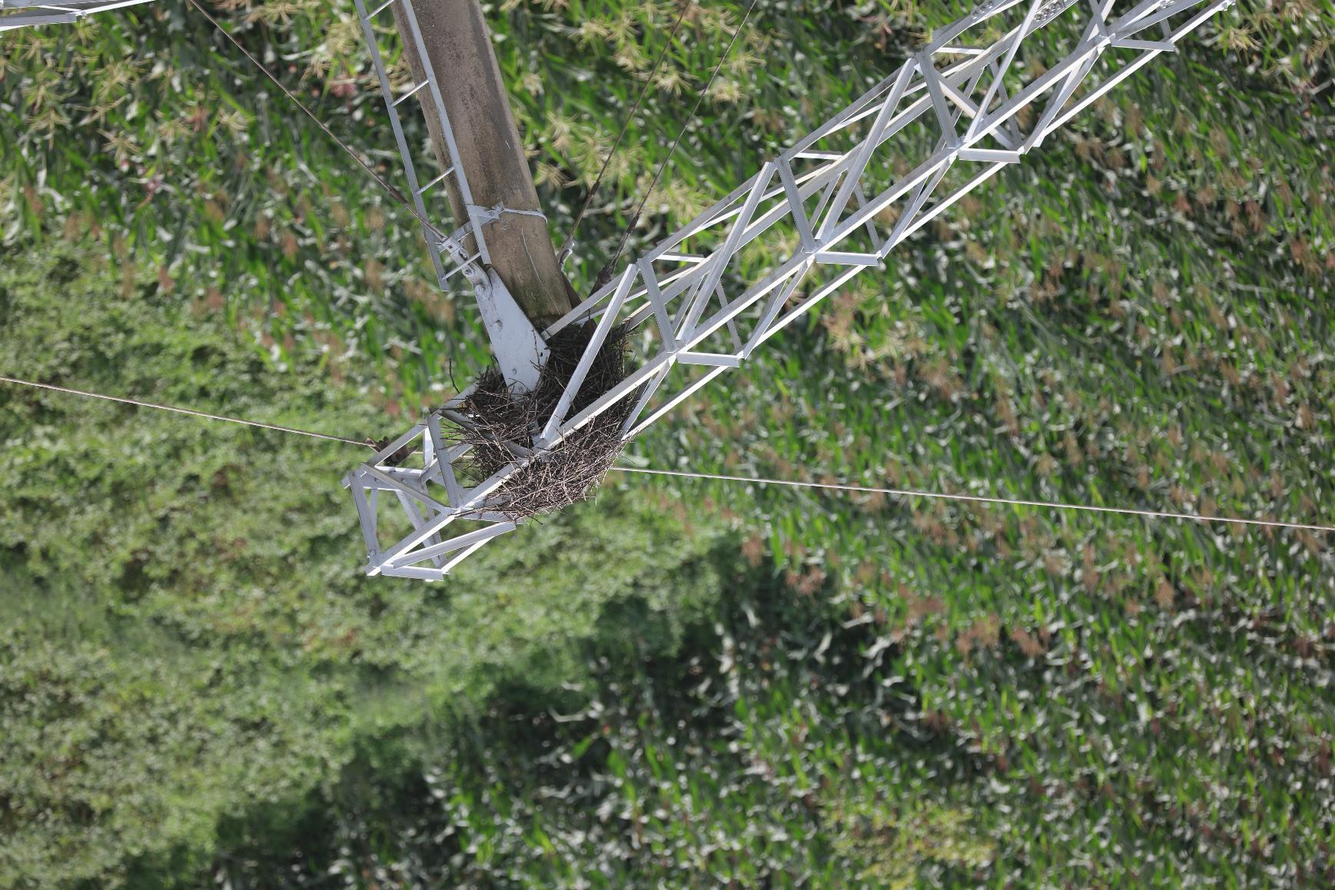nest: (450, 311, 640, 525)
